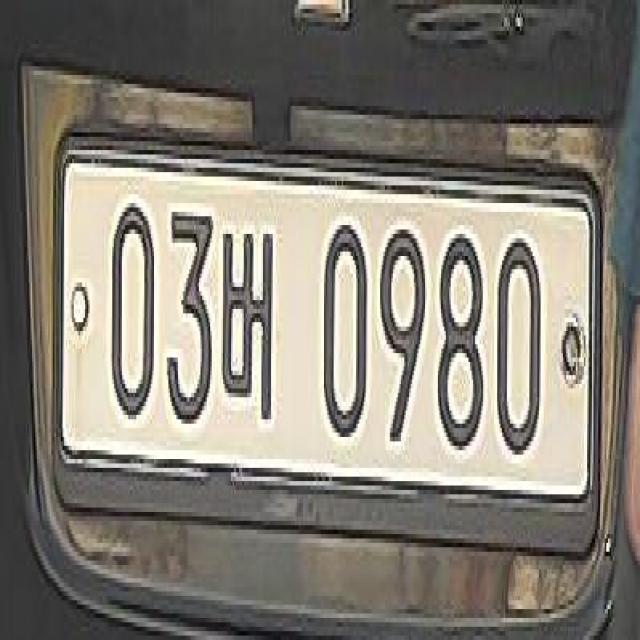illegal_plate: (55, 141, 608, 571)
